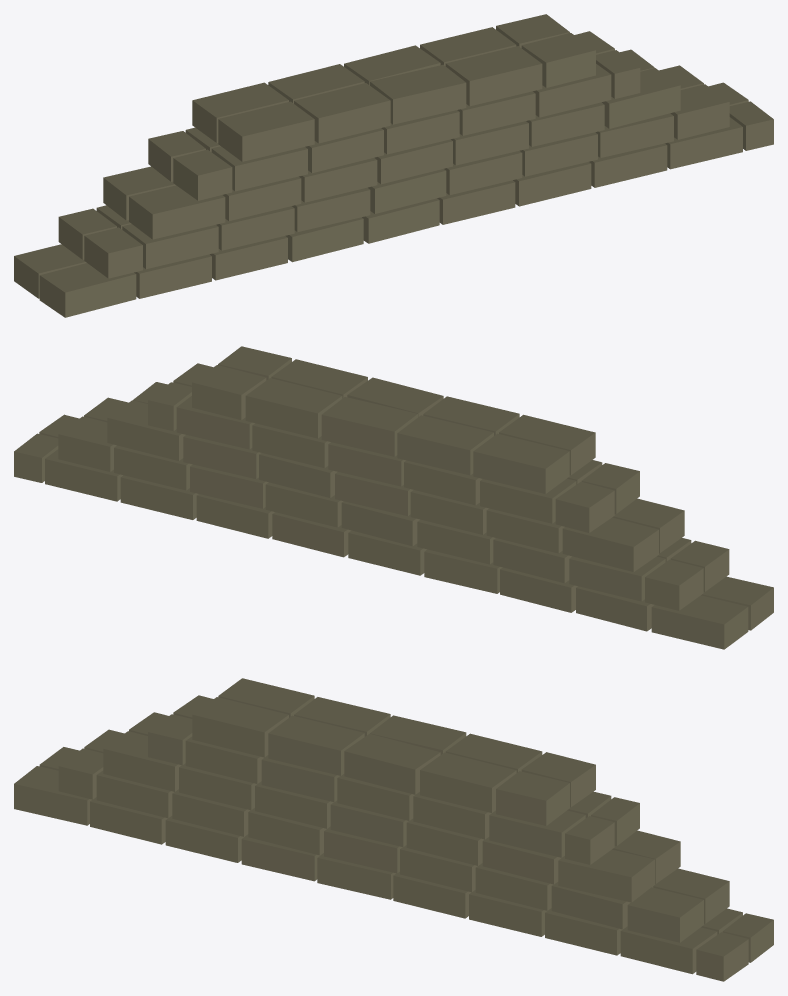
Rendered from SM_MuroSacos_v1_Talud_e0_Sano_LOD0.fbx.
3 views of the same model, one above another, from view 1: azimuth 30°, elevation 25°; view 2: azimuth 150°, elevation 25°; view 3: azimuth 330°, elevation 25° (orthographic).
Visible parts, largest first — view 1: SM_bloques.muro_sacos_estados_v4_LOD0; view 2: SM_bloques.muro_sacos_estados_v4_LOD0; view 3: SM_bloques.muro_sacos_estados_v4_LOD0.
Boxes of the visible parts, box(x1,y1,x2,y2) form: SM_bloques.muro_sacos_estados_v4_LOD0: box(14, 14, 773, 317); SM_bloques.muro_sacos_estados_v4_LOD0: box(14, 346, 773, 649); SM_bloques.muro_sacos_estados_v4_LOD0: box(14, 678, 773, 981).
Size of the model in its own units: 7.97 by 1.47 by 0.9933.
